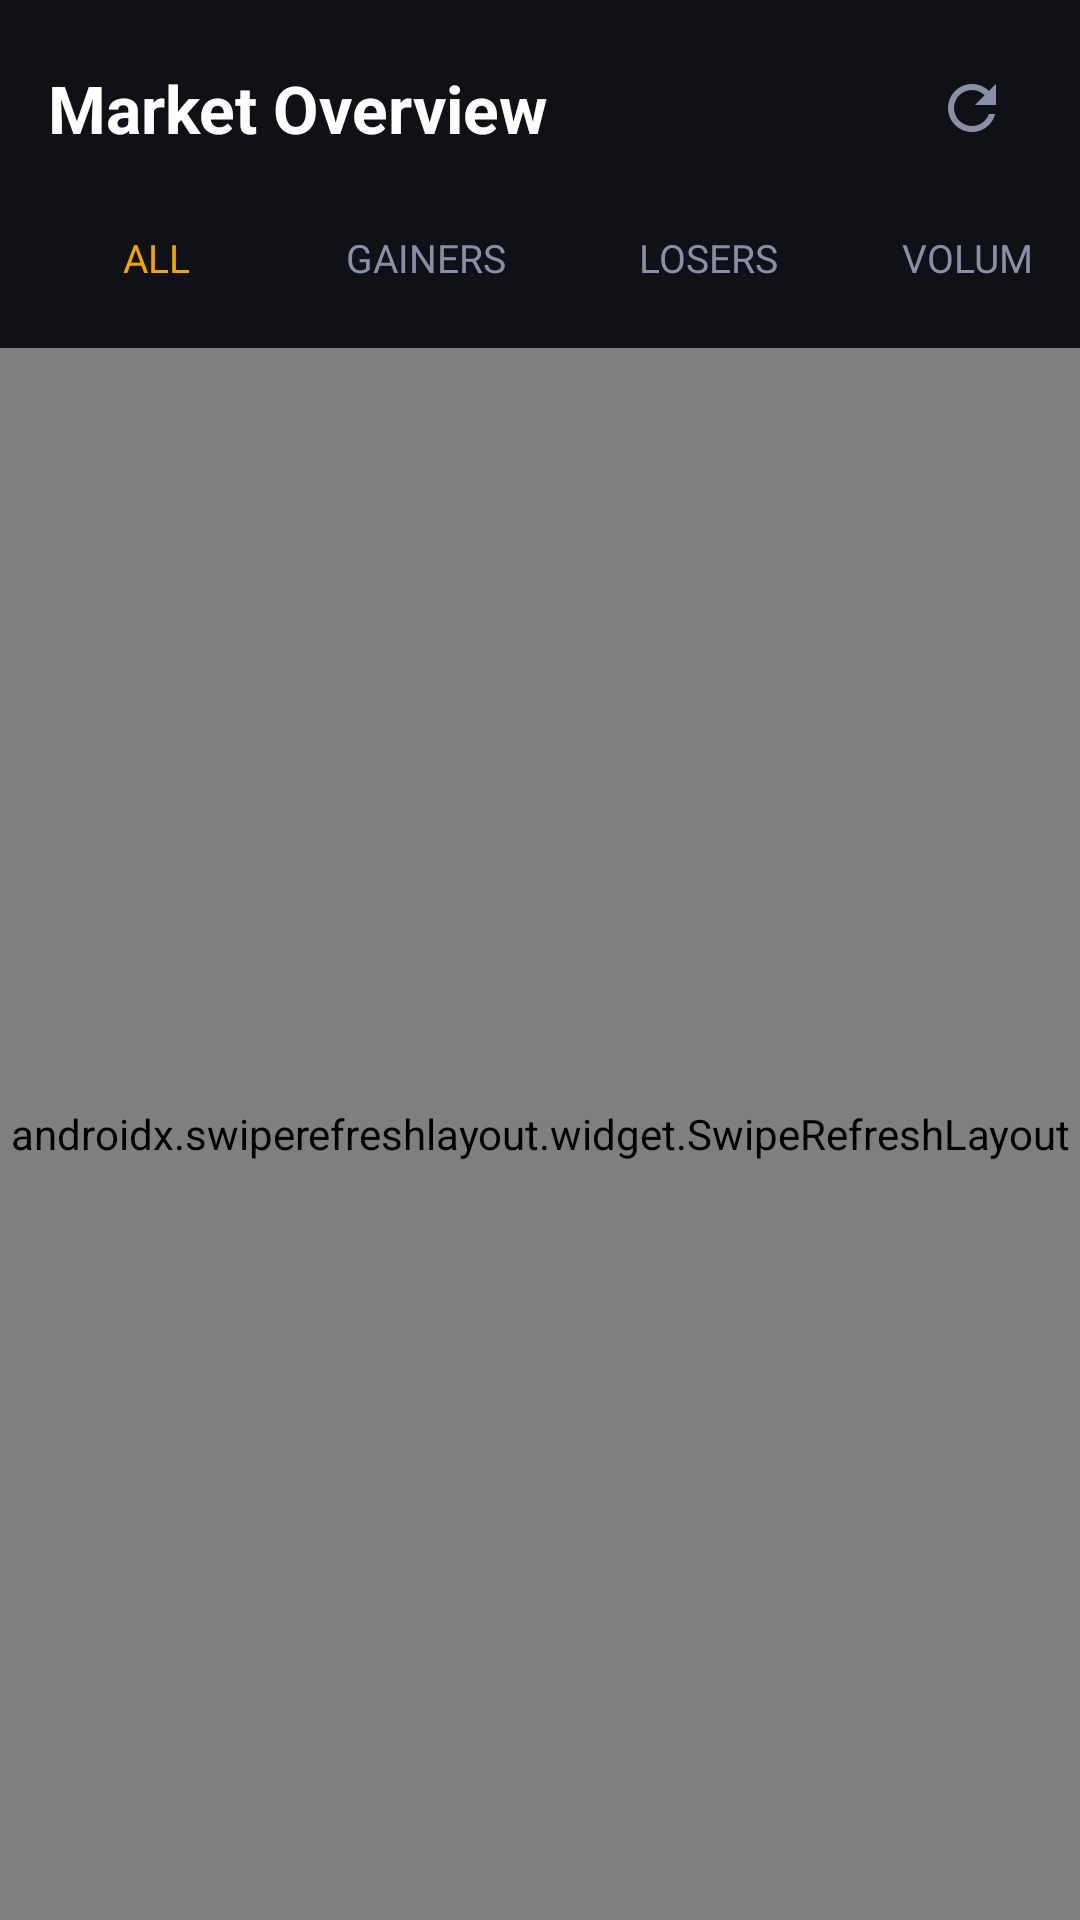

Where icons sit on this 1080x1920 app screen, as {"x1": x1, "y1": y1, "x2": x2, "y2": y2}:
refresh: {"x1": 948, "y1": 84, "x2": 996, "y2": 132}
